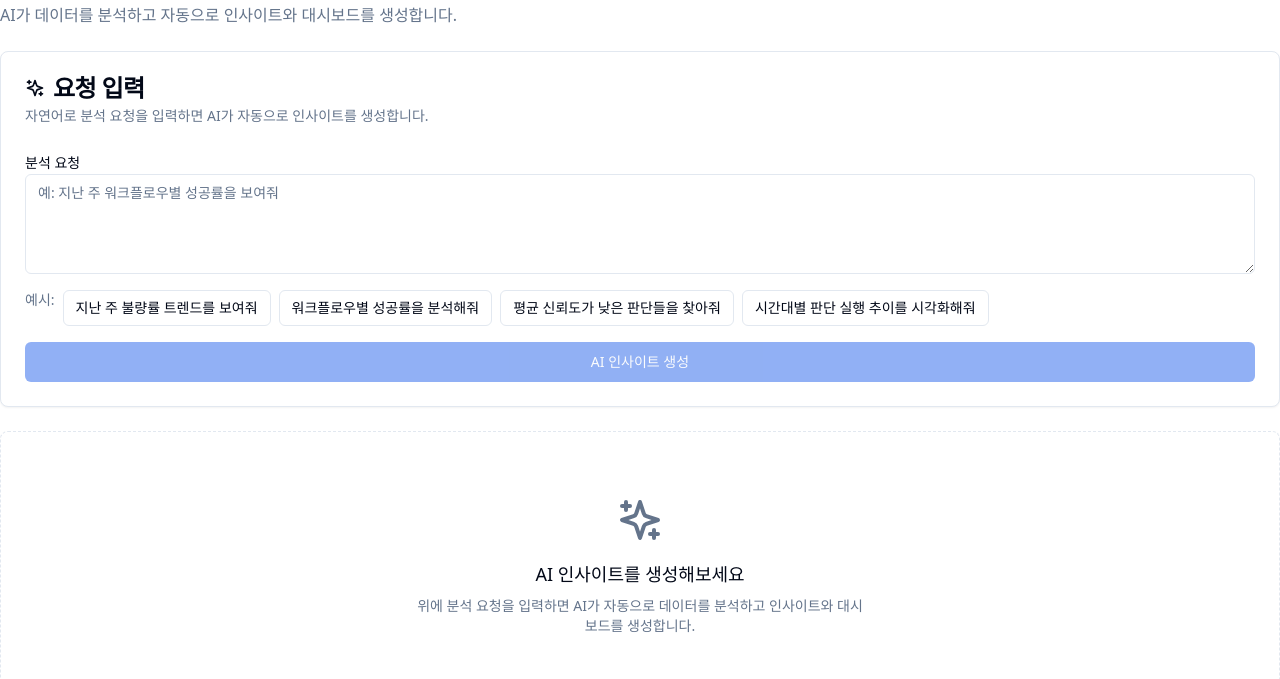
BiInsights › Group 4: Insight Display › 자동 생성된 대시보드 컴포넌트 표시
Type "분석" into the text box.
click(640, 224); type("분석")  # box [25,174,1255,274]
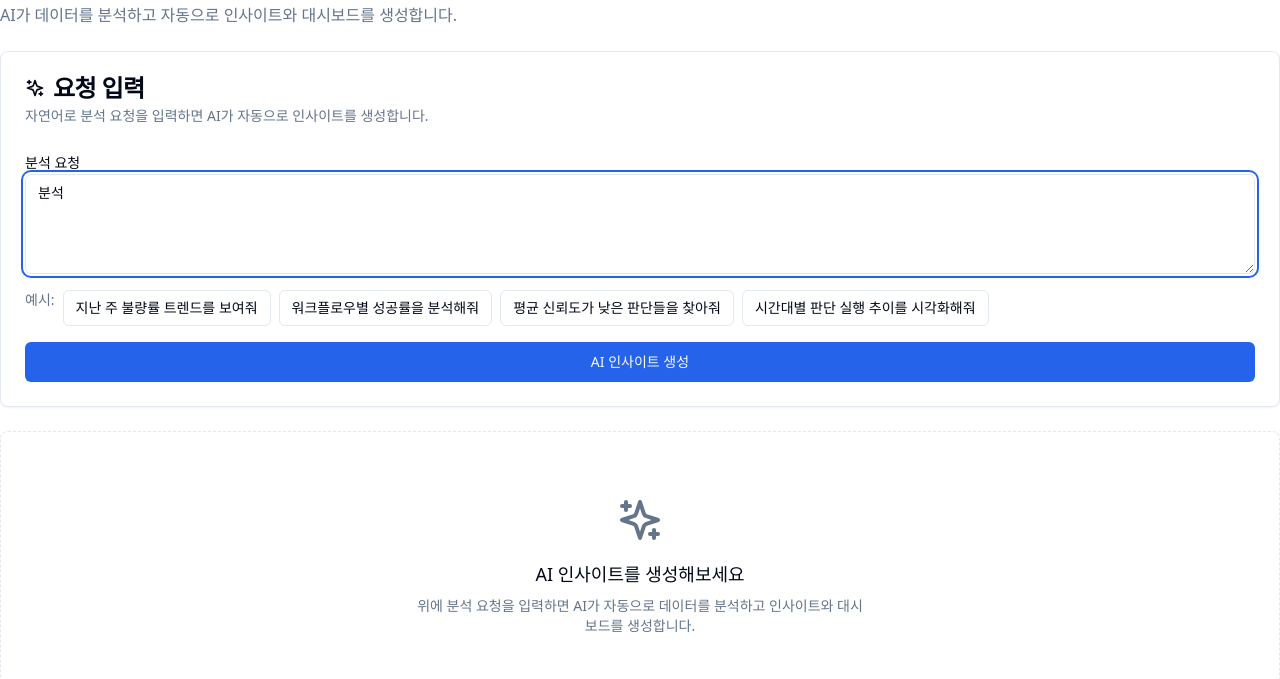
Click the button "AI 인사이트 생성".
click(640, 362)  # box [25,342,1255,382]
(page scrolled)
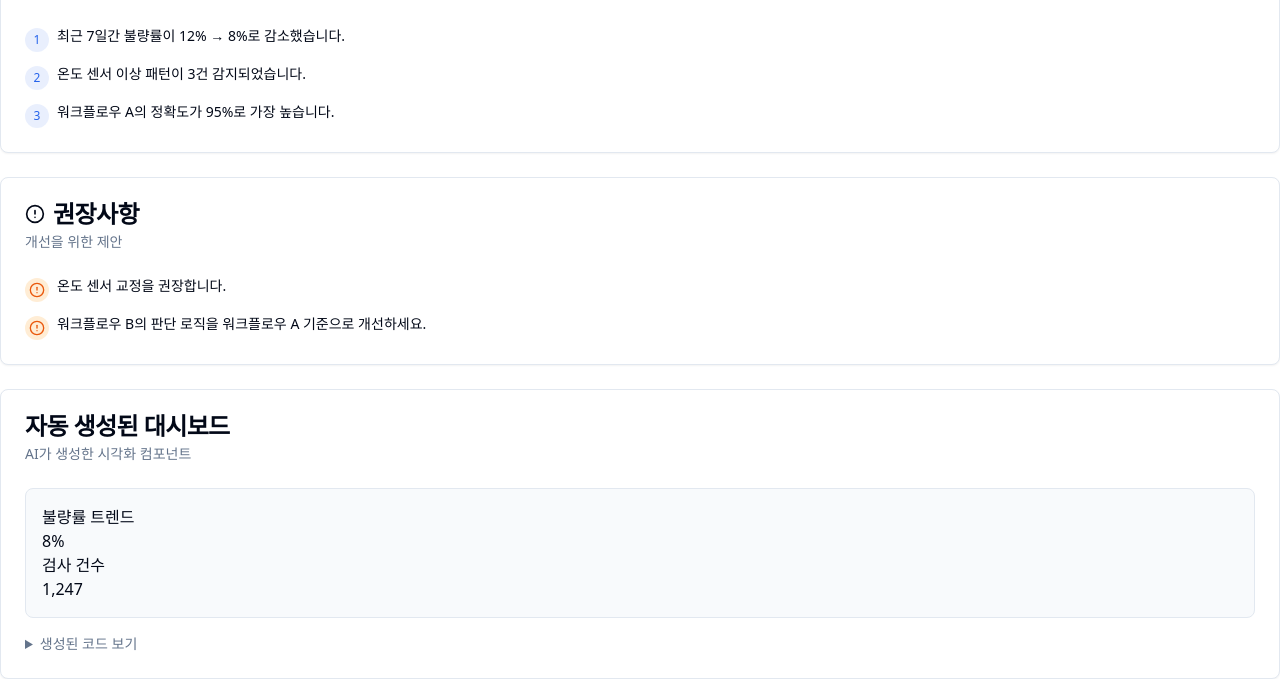
Expected: the heading "자동 생성된 대시보드" is shown, [25,409,230,442]
Expected: the heading "생성된 코드 보기" is shown, [40,634,137,653]
